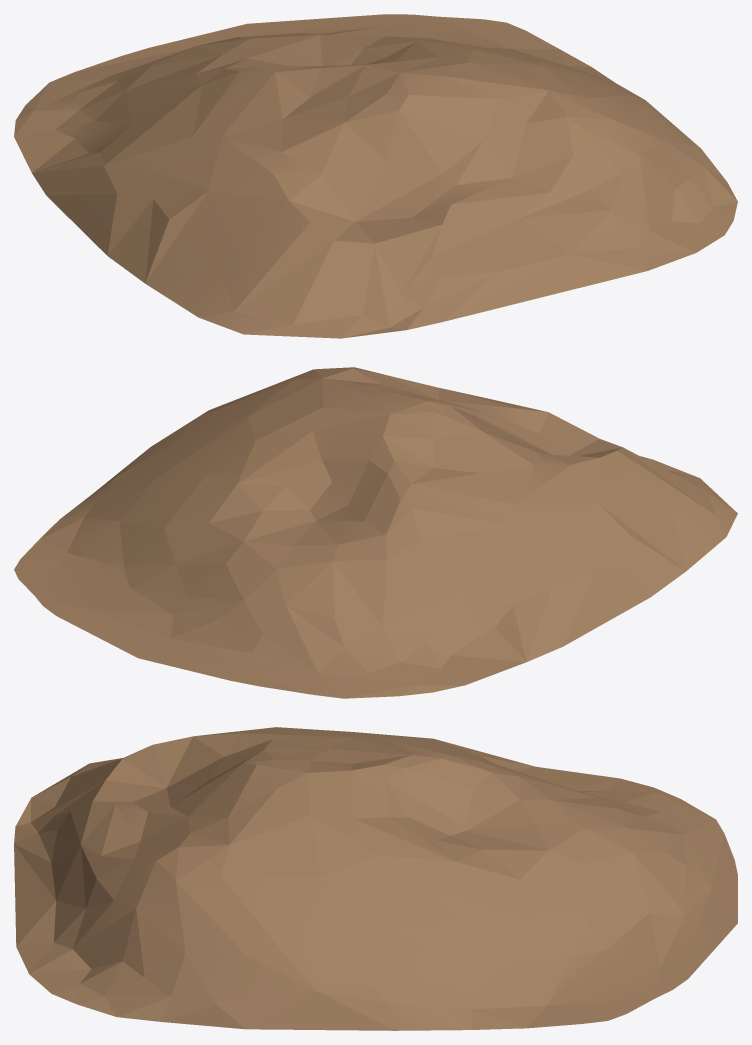
Rendered from Hill_02.fbx.
3 renders of one model, top to bottom at view 1: azimuth 30°, elevation 25°; view 2: azimuth 150°, elevation 25°; view 3: azimuth 270°, elevation 25°, orthographic. The views are drawn at different scales.
Parts seen in each view (by area): view 1: Hill_02; view 2: Hill_02; view 3: Hill_02.
Boxes of the visible parts, <box> form: Hill_02: <box>14,14,737,338</box>; Hill_02: <box>14,367,737,698</box>; Hill_02: <box>14,727,737,1030</box>.
Size of the model in its own units: 5728 by 1177 by 6298.
